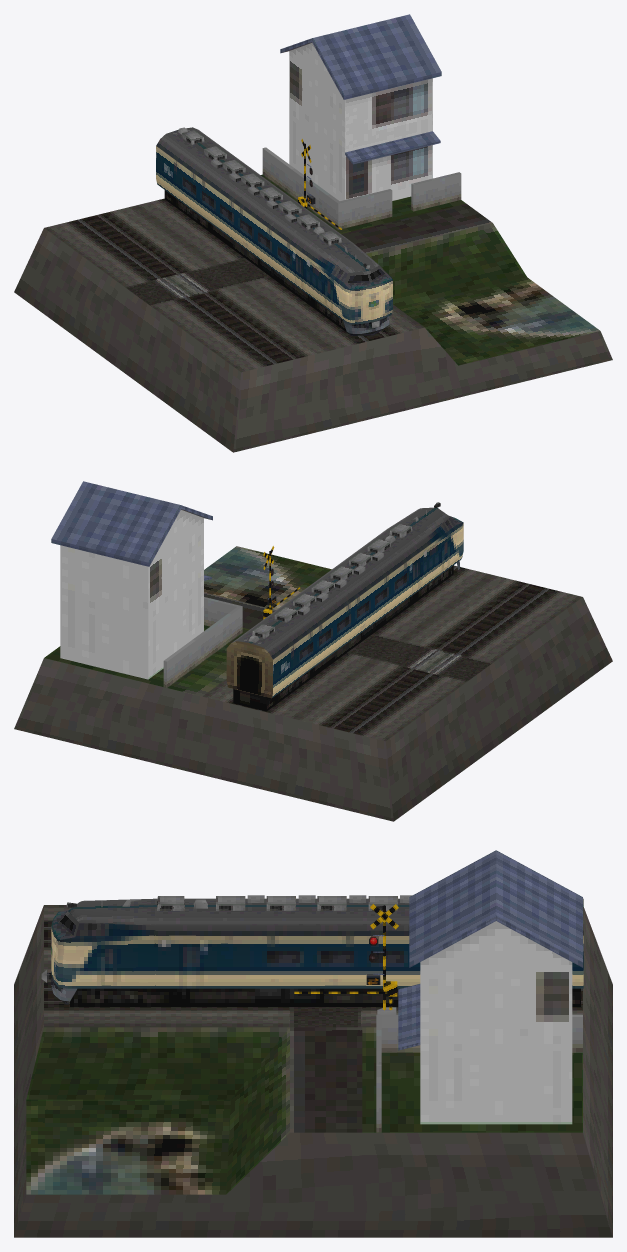
Rendered from ps2_save-icons_denshadegofinal.glb.
The picture shows the model from 3 angles, top to bottom: view 1: azimuth 30°, elevation 25°; view 2: azimuth 150°, elevation 25°; view 3: azimuth 270°, elevation 25°; orthographic projection. The views are drawn at different scales.
Parts seen in each view (by area): view 1: ico1.ico; view 2: ico1.ico; view 3: ico1.ico.
Part boxes in pixels (x1,y1,x2,y2): ico1.ico: [14, 14, 612, 452]; ico1.ico: [14, 481, 612, 821]; ico1.ico: [14, 850, 612, 1237].
Bounding box in the file's own units: 4.9 × 2.75 × 4.9.
Materials: 1 (1 with a texture image).
